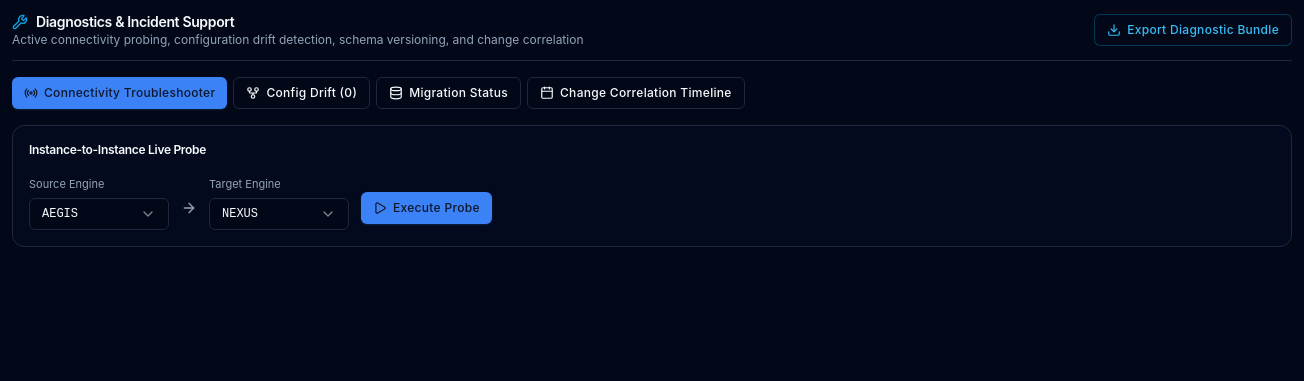
Scenario: Diagnostics UI Components › renders DiagnosticsManager and executes connectivity probe
Expected: the heading "Diagnostics & Incident Support" is shown, [12,13,234,30]
Expected: the heading "Instance-to-Instance Live Probe" is shown, [29,142,206,157]
Click the button "Execute Probe" at [426, 208], box [361,192,492,224]
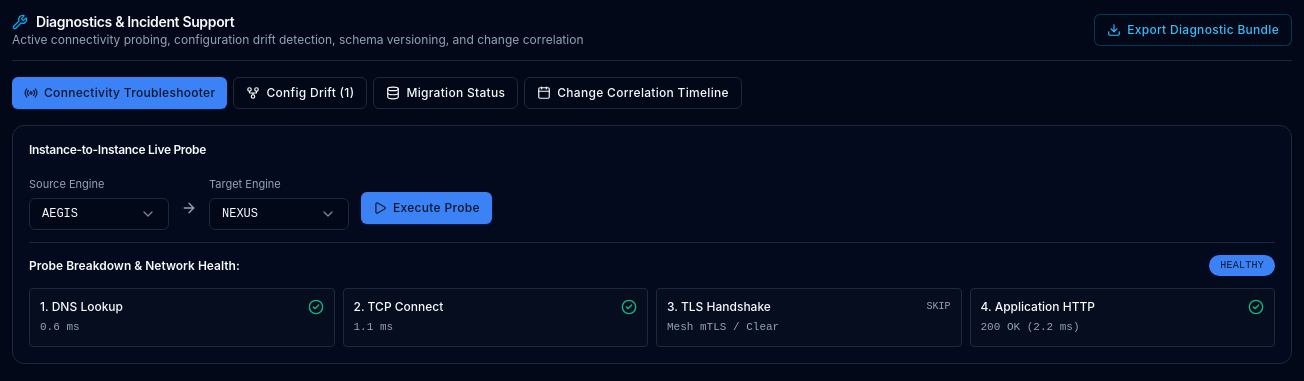
Expected: the text "1. DNS Lookup" is shown, [40,299,123,315]
Expected: the text "2. TCP Connect" is shown, [354,299,443,315]
Expected: the text "4. Application HTTP" is shown, [980,299,1095,315]
